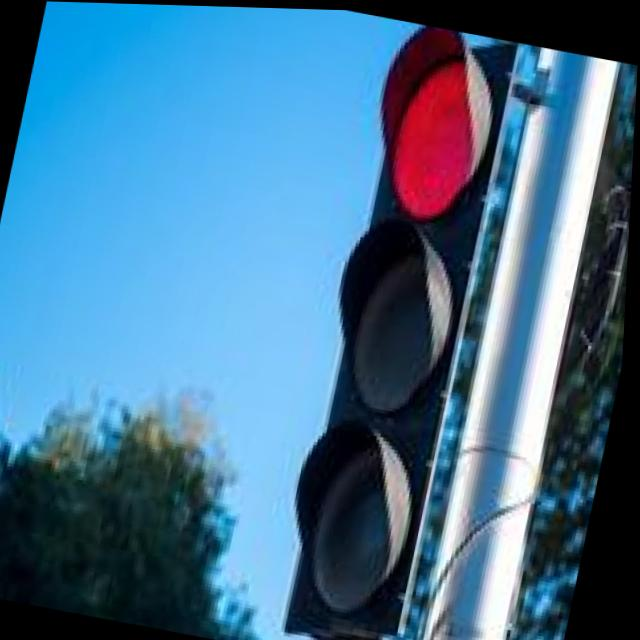red_light: (341, 14, 533, 232)
